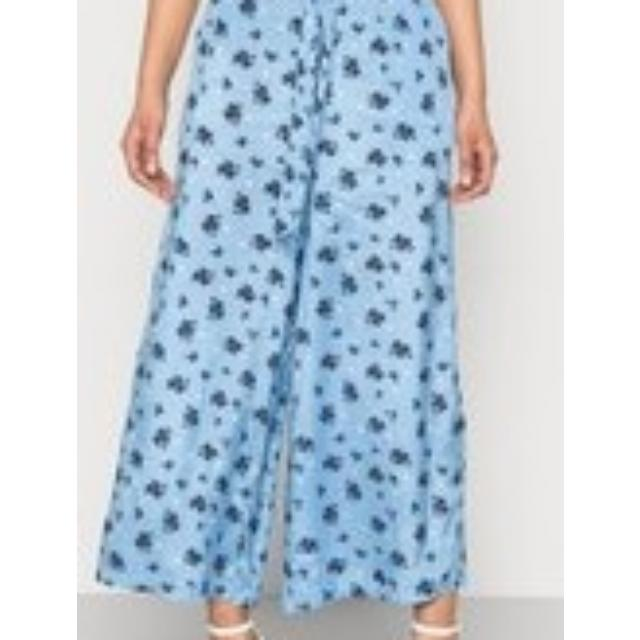cotton: (166, 1, 454, 590)
